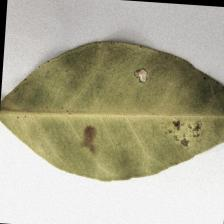canker: (72, 55, 205, 154)
